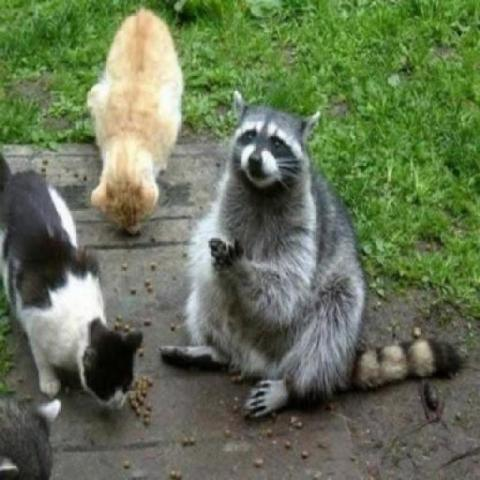small_animal: (164, 91, 460, 418), (0, 148, 146, 414), (89, 14, 185, 234)
